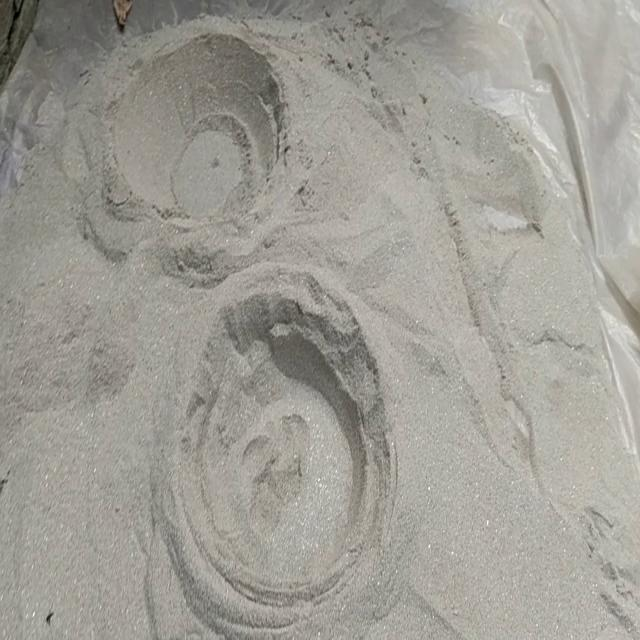C20: (174, 292, 385, 632), (108, 36, 284, 225)
